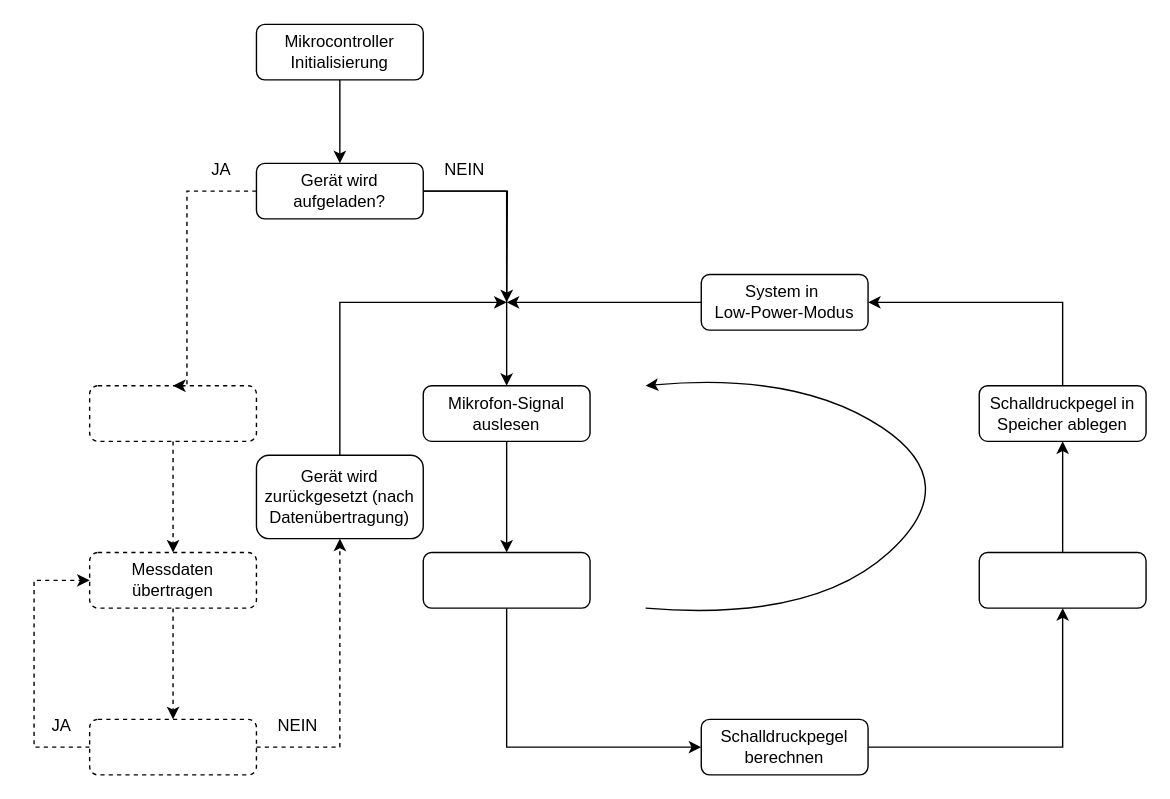
Some shapes in this 1170 by 799 pixel diagram are drawn without their labels. Here are the shapes that lost their labels. From the top down, the centre of each, then its label:
the point at 172,412: BLE aktivieren
the point at 506,579: Mikrofon-Signal filtern
the point at 1062,579: Schalldruckpegel mit LEDs wiedergeben
the point at 172,746: Gerät lädt weiter auf?
